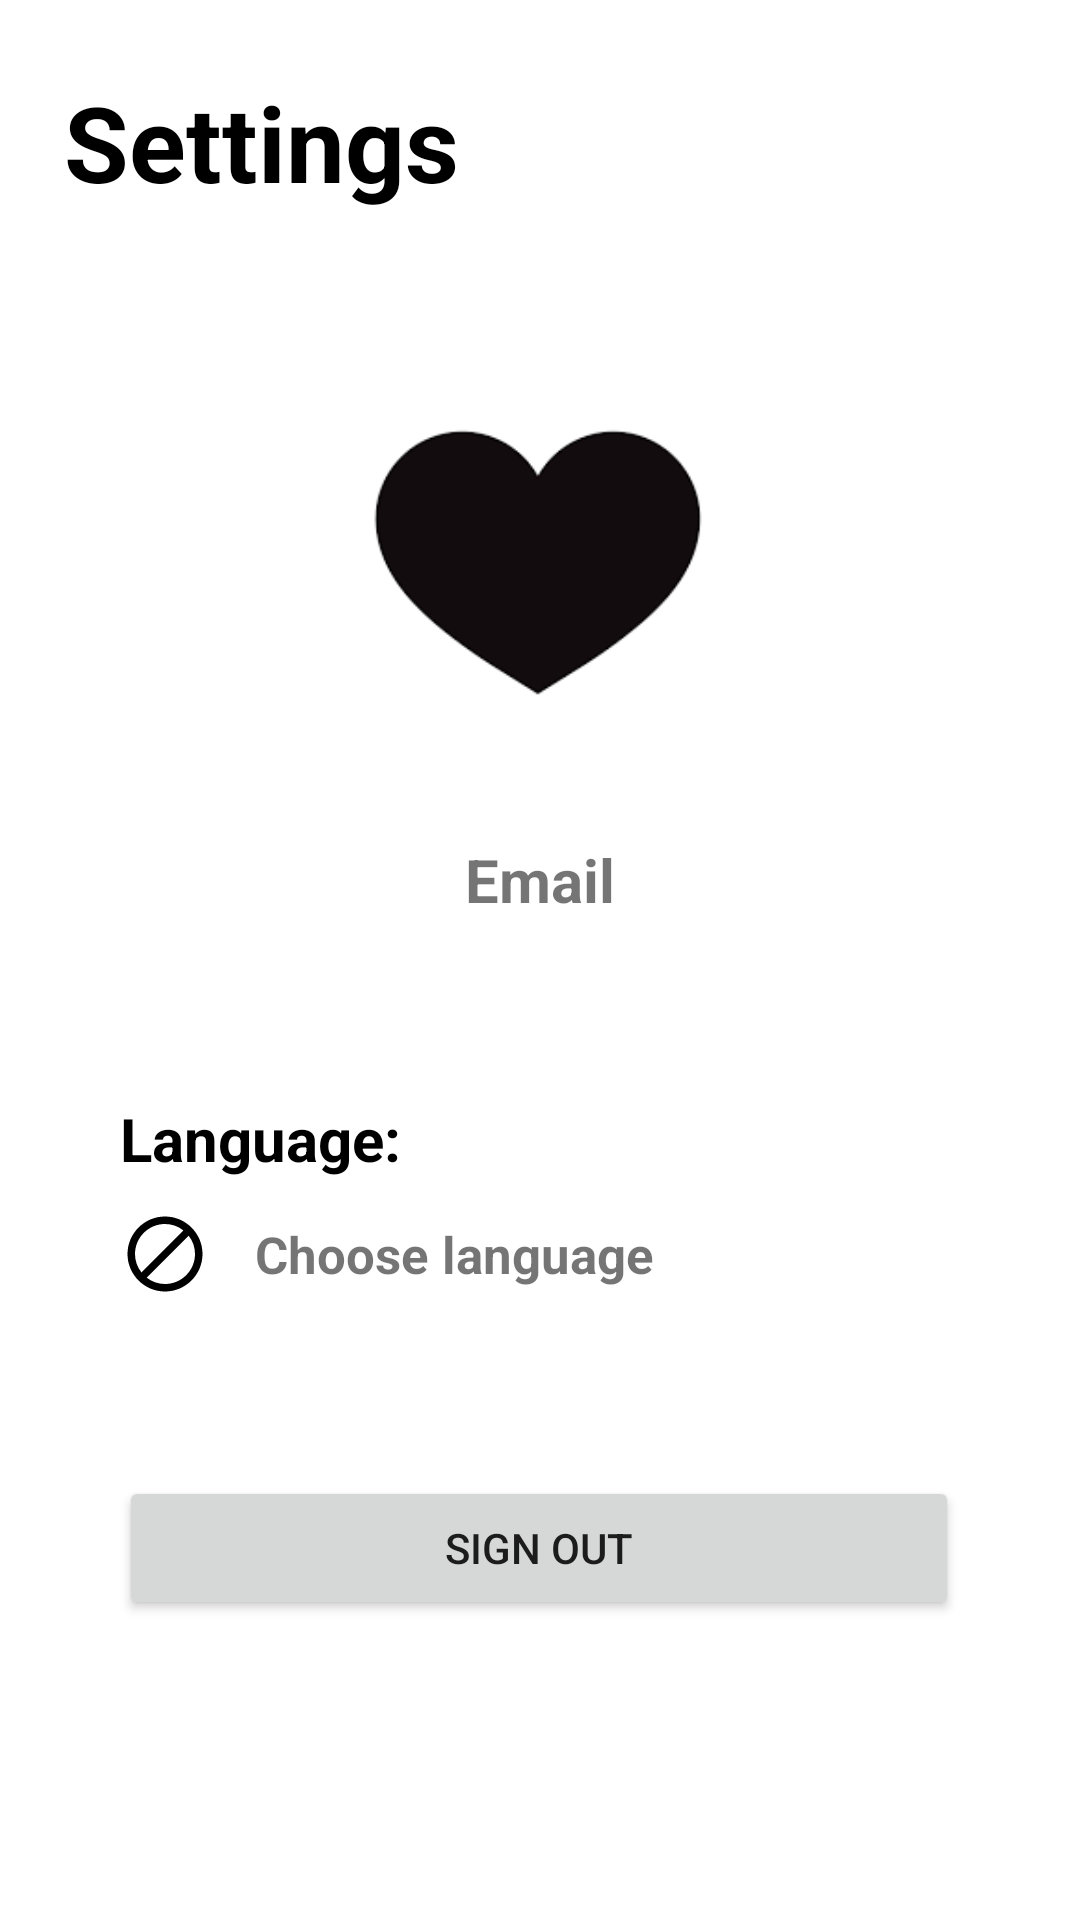

Locate icon controls on the screen. Image size 1080w x 1920h, boxes as bbox=(x1, y1, x2, y2).
another heart: bbox=(374, 430, 701, 695)
do not disturb: bbox=(127, 1216, 203, 1292)
